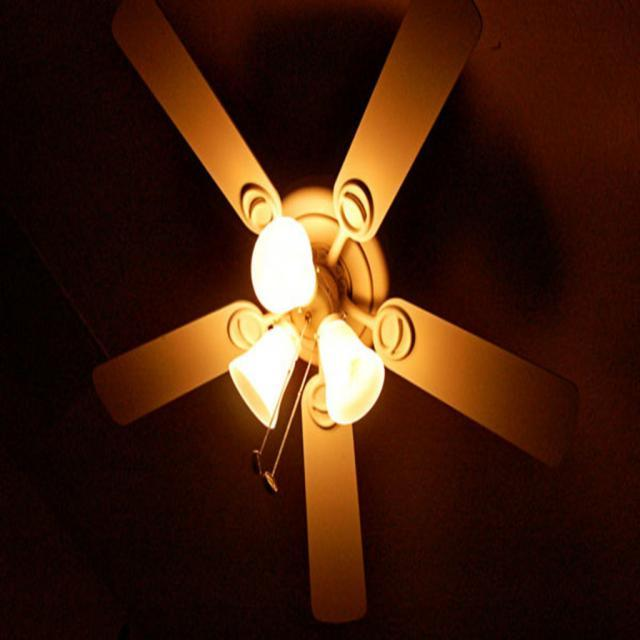fan_off: (88, 0, 580, 625)
